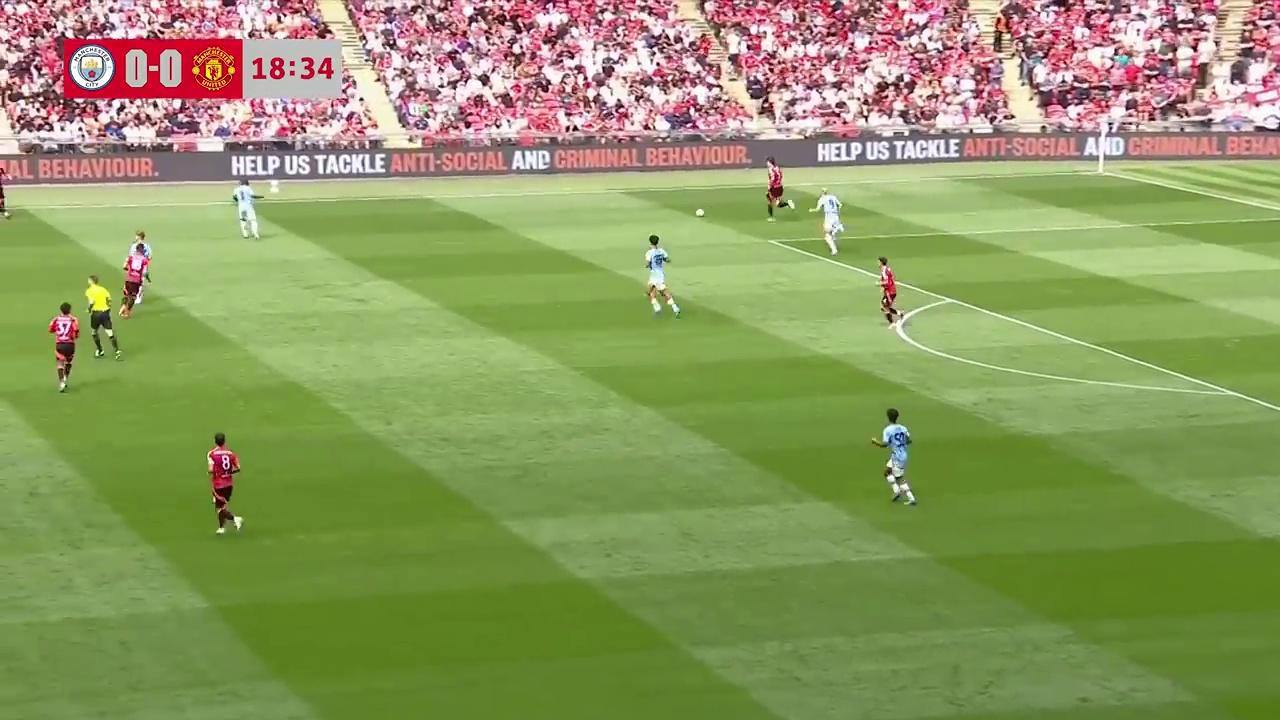ball: (694, 205, 705, 219)
player: (871, 407, 916, 506), (207, 432, 243, 535), (644, 235, 680, 317), (47, 302, 79, 394), (119, 247, 152, 322), (120, 231, 152, 304), (810, 189, 843, 253), (878, 257, 903, 335), (765, 159, 792, 220), (234, 180, 259, 238), (0, 161, 11, 222)
referee: (84, 274, 122, 357)
